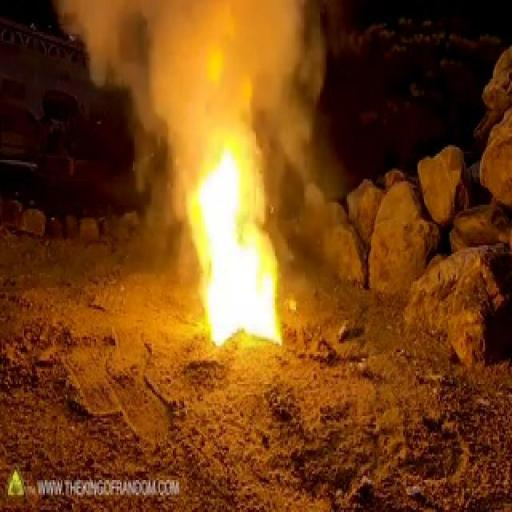smoke: (211, 195, 314, 330)
